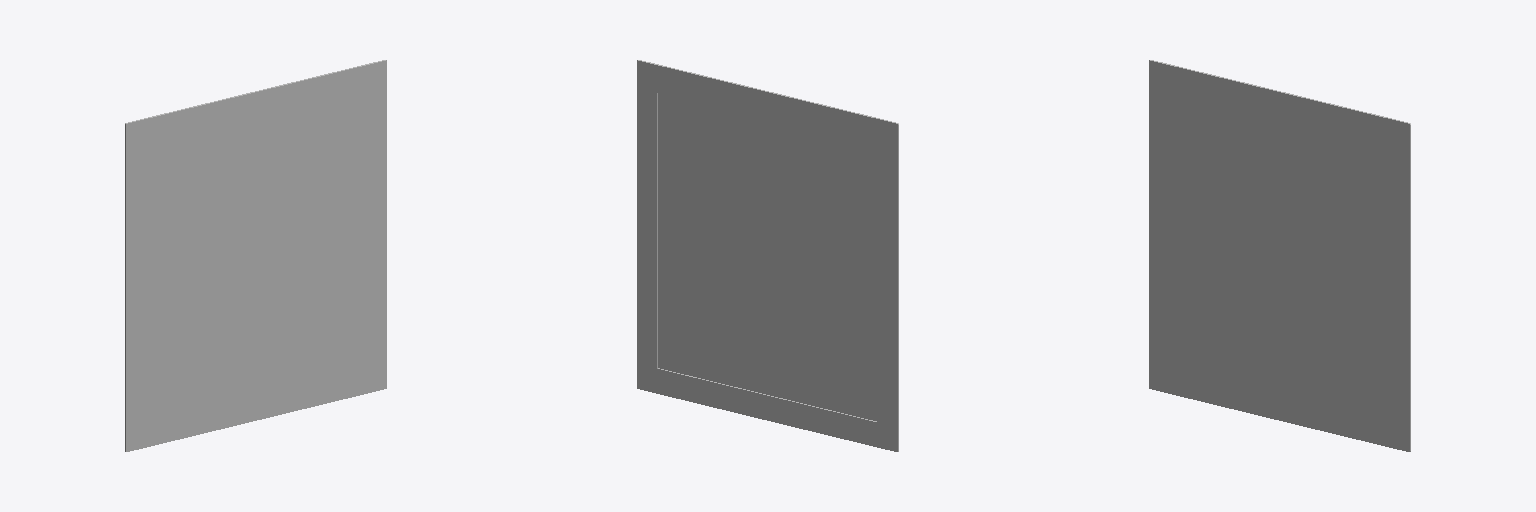
The model's file is blocks-grass-pavement-closed-24m.obj.
3 renders of one model, left to right at view 1: azimuth 30°, elevation 25°; view 2: azimuth 150°, elevation 25°; view 3: azimuth 330°, elevation 25°, orthographic.
Parts seen in each view (by area): view 1: blocks-grass-pavement-closed-24m_Plane.193; view 2: blocks-grass-pavement-closed-24m_Plane.193; view 3: blocks-grass-pavement-closed-24m_Plane.193.
Part boxes in pixels (bbox=[...]): blocks-grass-pavement-closed-24m_Plane.193: bbox=[125, 60, 386, 451]; blocks-grass-pavement-closed-24m_Plane.193: bbox=[637, 60, 898, 451]; blocks-grass-pavement-closed-24m_Plane.193: bbox=[1149, 60, 1410, 451].
Size of the model in its own units: 20 by 24 by 0.15.